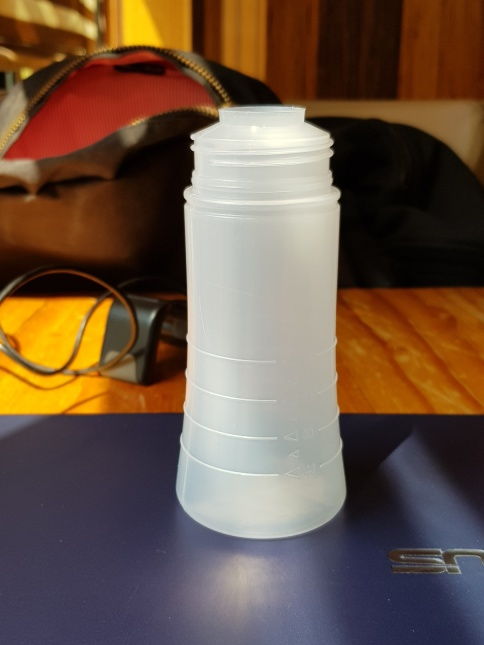Plastic: (172, 96, 350, 544)
